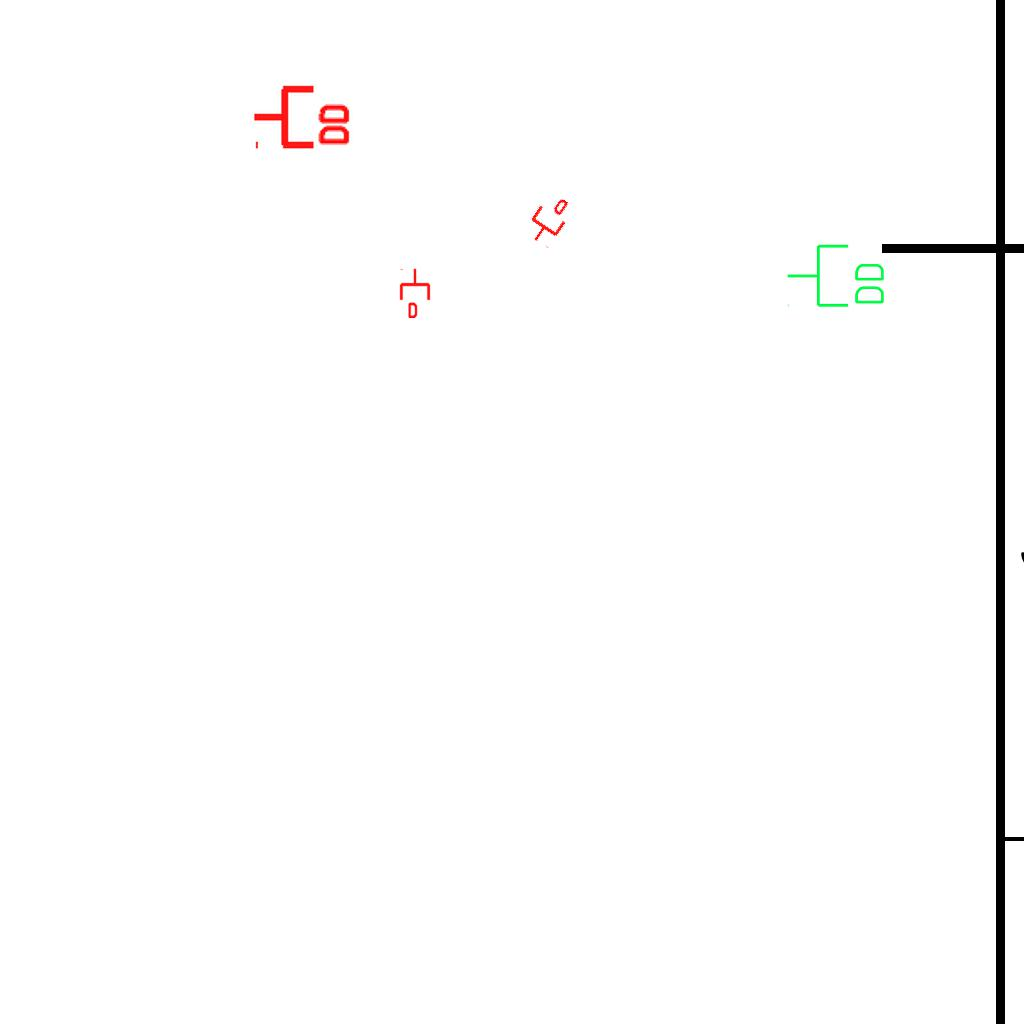Datenanschluss_einfach: (520, 189, 578, 251), (398, 268, 432, 318)
Datenanschluss_zweifach: (785, 242, 888, 311), (251, 81, 354, 150)
